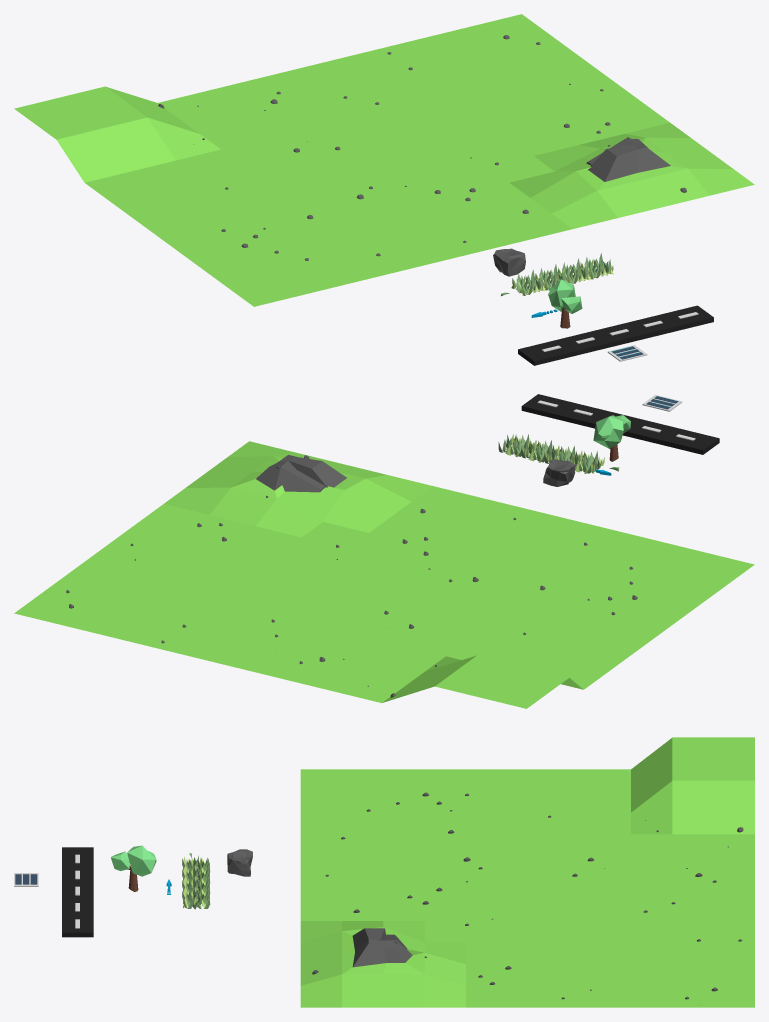
File: lowply.fbx
3 views of the same model, one above another, from view 1: azimuth 30°, elevation 25°; view 2: azimuth 150°, elevation 25°; view 3: azimuth 270°, elevation 25° (orthographic). The views are drawn at different scales.
Visible parts, largest first — view 1: terrain, road, grass_grass2_0, tree, rock, stones; view 2: terrain, road, grass_grass2_0, tree, rock, stones; view 3: terrain, road, grass_grass2_0, tree, rock, stones.
Part boxes in pixels (box(x1,y1,x2,y2)): terrain: box(14, 14, 754, 306); road: box(518, 305, 713, 365); grass_grass2_0: box(511, 253, 613, 295); tree: box(548, 279, 582, 328); rock: box(493, 248, 525, 276); stones: box(158, 35, 686, 284); terrain: box(14, 441, 754, 708); road: box(521, 394, 719, 454); grass_grass2_0: box(498, 434, 604, 473); tree: box(593, 415, 630, 461); rock: box(543, 458, 575, 486); stones: box(66, 437, 637, 697); terrain: box(300, 737, 754, 1007); road: box(62, 847, 93, 937); grass_grass2_0: box(182, 855, 210, 909); tree: box(111, 845, 156, 891); rock: box(227, 849, 252, 876); stones: box(156, 792, 743, 999).
Bounding box in the file's own units: 11970 × 1041 × 15524.
